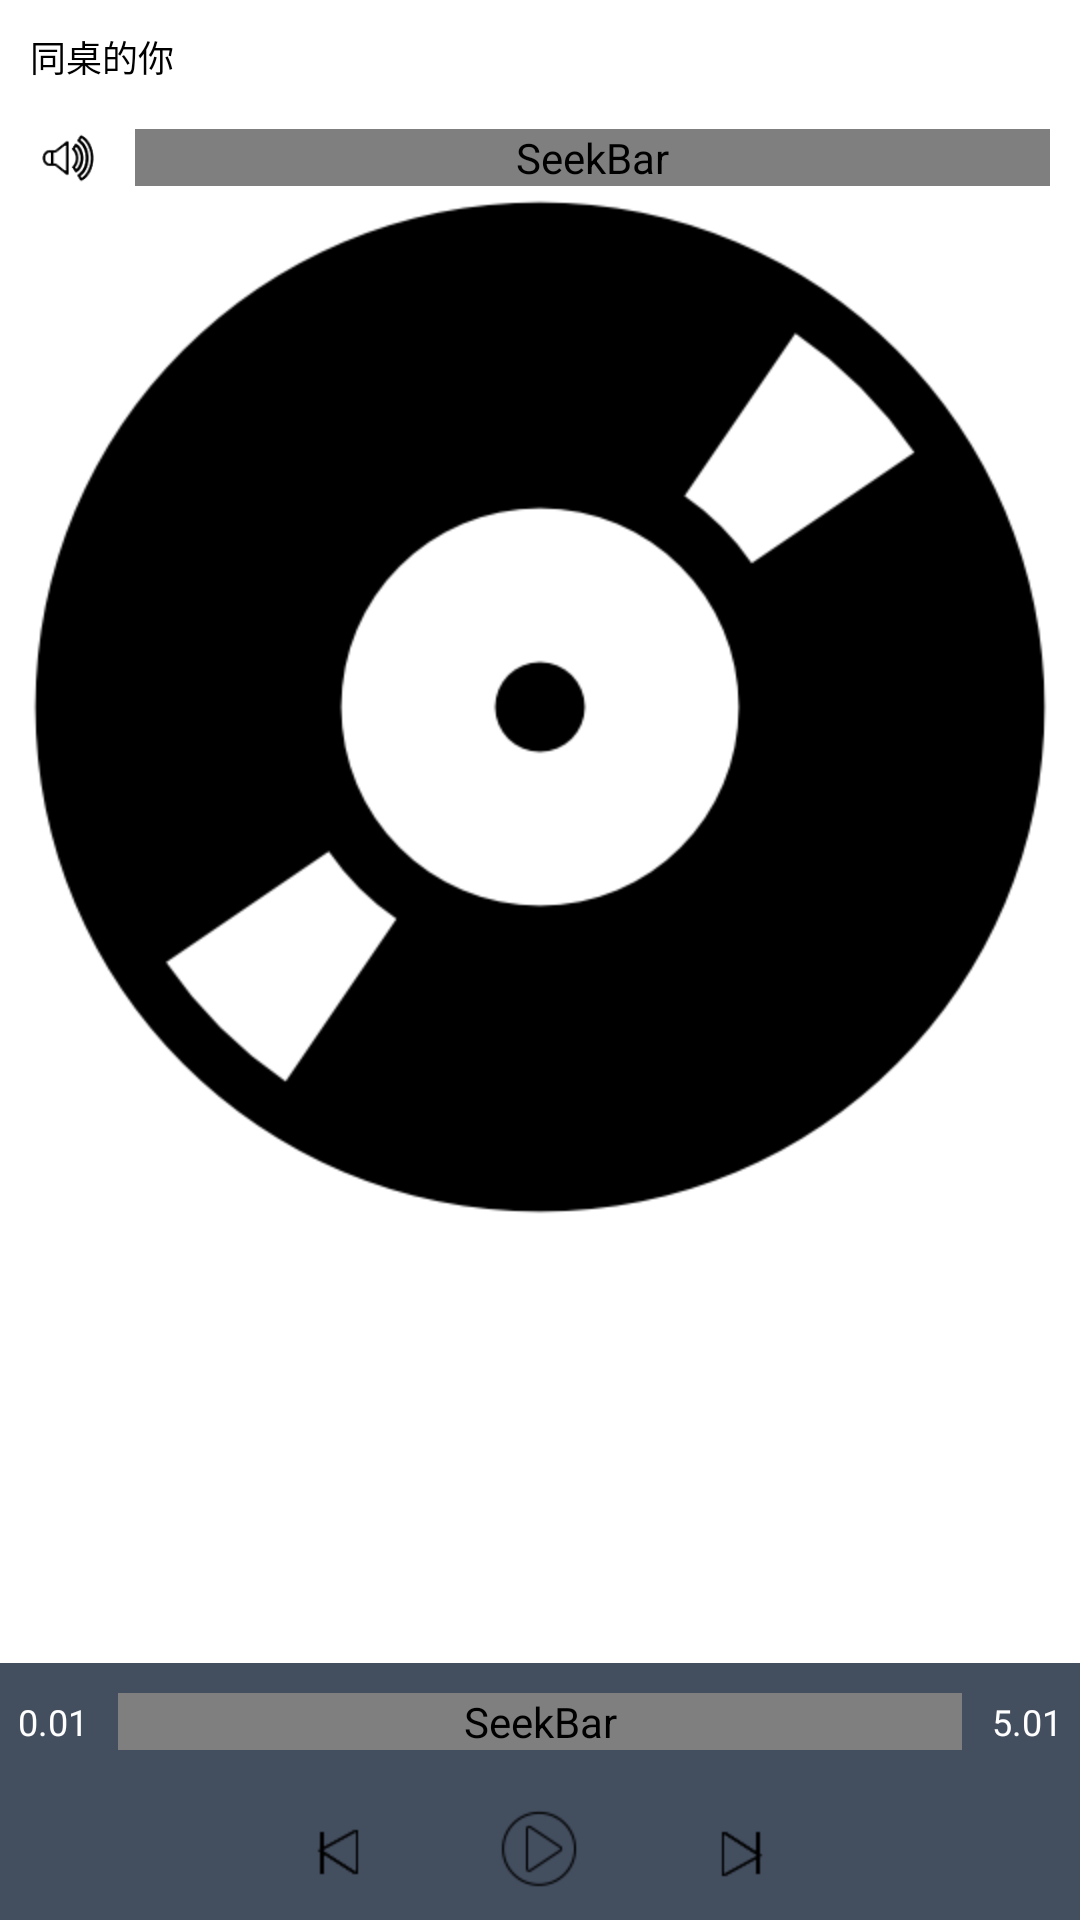

Named icons in this screenshot (1080x1920) and their centers, (x,y):
playing: (539,1848)
